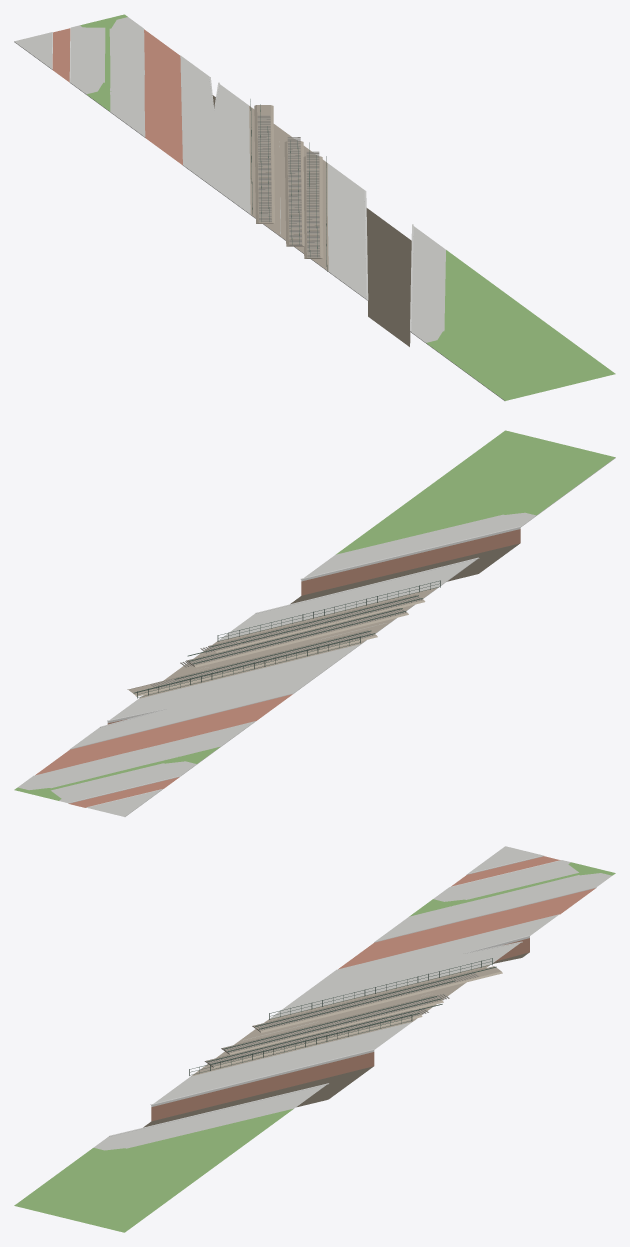
Rendered from ground_3_8.glb.
The picture shows the model from 3 angles, top to bottom: view 1: azimuth 30°, elevation 25°; view 2: azimuth 150°, elevation 25°; view 3: azimuth 330°, elevation 25°; orthographic projection.
Visible parts, largest first — view 1: ground_3_8; view 2: ground_3_8; view 3: ground_3_8.
Part boxes in pixels (bbox=[...]): ground_3_8: bbox=[14, 14, 615, 400]; ground_3_8: bbox=[14, 430, 615, 816]; ground_3_8: bbox=[14, 846, 615, 1232].
Bounding box in the file's own units: 31.68 × 5.17 × 200.
